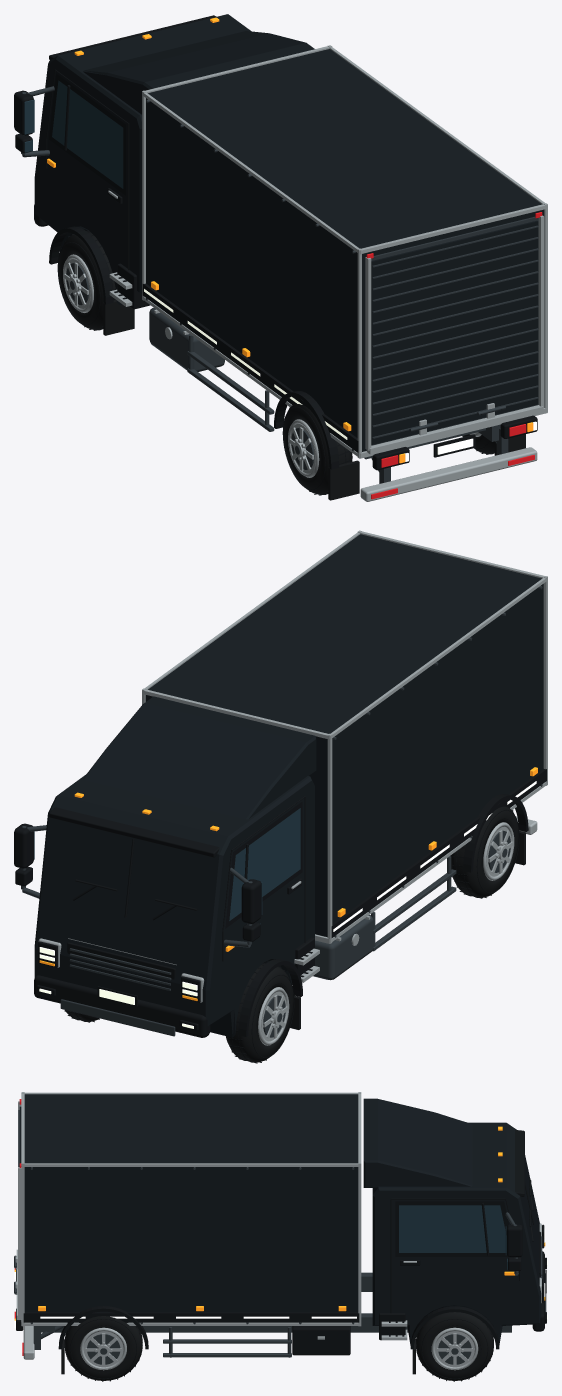
File: kansu-can-truck.glb
The picture shows the model from 3 angles, top to bottom: view 1: azimuth 30°, elevation 25°; view 2: azimuth 150°, elevation 25°; view 3: azimuth 270°, elevation 25°; orthographic projection. The views are drawn at different scales.
Visible parts, largest first — view 1: body_cargo, body_paint, body_metal, body_darkMetal, body_trim, body_glass, body_rubber, wheel_rl_Tire_rubber, wheel_fl_Tire_rubber, wheel_rl_Brushed_pale_alloy, wheel_fl_Brushed_pale_alloy, body_white (+1 smaller); view 2: body_cargo, body_paint, body_trim, body_metal, body_darkMetal, body_glass, wheel_fl_Tire_rubber, wheel_rl_Tire_rubber, body_white, wheel_fl_Brushed_pale_alloy, wheel_rl_Brushed_pale_alloy, wheel_fl_Graphite_polymer_trim; view 3: body_cargo, body_paint, body_trim, body_metal, body_glass, body_darkMetal, wheel_fr_Tire_rubber, wheel_rr_Tire_rubber, wheel_rr_Brushed_pale_alloy, wheel_fr_Brushed_pale_alloy, body_white, wheel_fr_Underbody_steel (+3 smaller).
Boxes of the visible parts, x1=… form: body_cargo: x1=146, y1=49, x2=543, y2=451; body_paint: x1=34, y1=14, x2=314, y2=304; body_metal: x1=108, y1=45, x2=547, y2=501; body_darkMetal: x1=21, y1=86, x2=538, y2=483; body_trim: x1=14, y1=15, x2=537, y2=470; body_glass: x1=24, y1=80, x2=123, y2=188; body_rubber: x1=103, y1=300, x2=525, y2=500; wheel_rl_Tire_rubber: x1=283, y1=404, x2=351, y2=494; wheel_fl_Tire_rubber: x1=58, y1=231, x2=115, y2=330; wheel_rl_Brushed_pale_alloy: x1=288, y1=419, x2=319, y2=477; wheel_fl_Brushed_pale_alloy: x1=63, y1=254, x2=93, y2=312; body_white: x1=144, y1=289, x2=536, y2=461; body_cargo: x1=145, y1=534, x2=543, y2=937; body_paint: x1=34, y1=696, x2=316, y2=1037; body_trim: x1=14, y1=769, x2=546, y2=1037; body_metal: x1=38, y1=530, x2=547, y2=1002; body_darkMetal: x1=21, y1=586, x2=542, y2=1036; body_glass: x1=32, y1=808, x2=300, y2=924; wheel_fl_Tire_rubber: x1=226, y1=964, x2=293, y2=1062; wheel_rl_Tire_rubber: x1=450, y1=806, x2=518, y2=897; body_white: x1=39, y1=781, x2=536, y2=1028; wheel_fl_Brushed_pale_alloy: x1=258, y1=987, x2=289, y2=1045; wheel_rl_Brushed_pale_alloy: x1=483, y1=822, x2=514, y2=880; wheel_fl_Graphite_polymer_trim: x1=226, y1=963, x2=294, y2=1063; body_cargo: x1=19, y1=1094, x2=358, y2=1312; body_paint: x1=363, y1=1098, x2=541, y2=1345; body_trim: x1=16, y1=1130, x2=546, y2=1355; body_metal: x1=15, y1=1092, x2=541, y2=1359; body_glass: x1=399, y1=1205, x2=507, y2=1269; body_darkMetal: x1=14, y1=1110, x2=546, y2=1357; wheel_fr_Tire_rubber: x1=416, y1=1312, x2=493, y2=1380; wheel_rr_Tire_rubber: x1=65, y1=1316, x2=142, y2=1380; wheel_rr_Brushed_pale_alloy: x1=80, y1=1327, x2=126, y2=1370; wheel_fr_Brushed_pale_alloy: x1=431, y1=1327, x2=478, y2=1370; body_white: x1=14, y1=1228, x2=547, y2=1328; wheel_fr_Underbody_steel: x1=438, y1=1334, x2=471, y2=1364.
Size of the model in its own units: 3.19 by 3.57 by 7.88.
